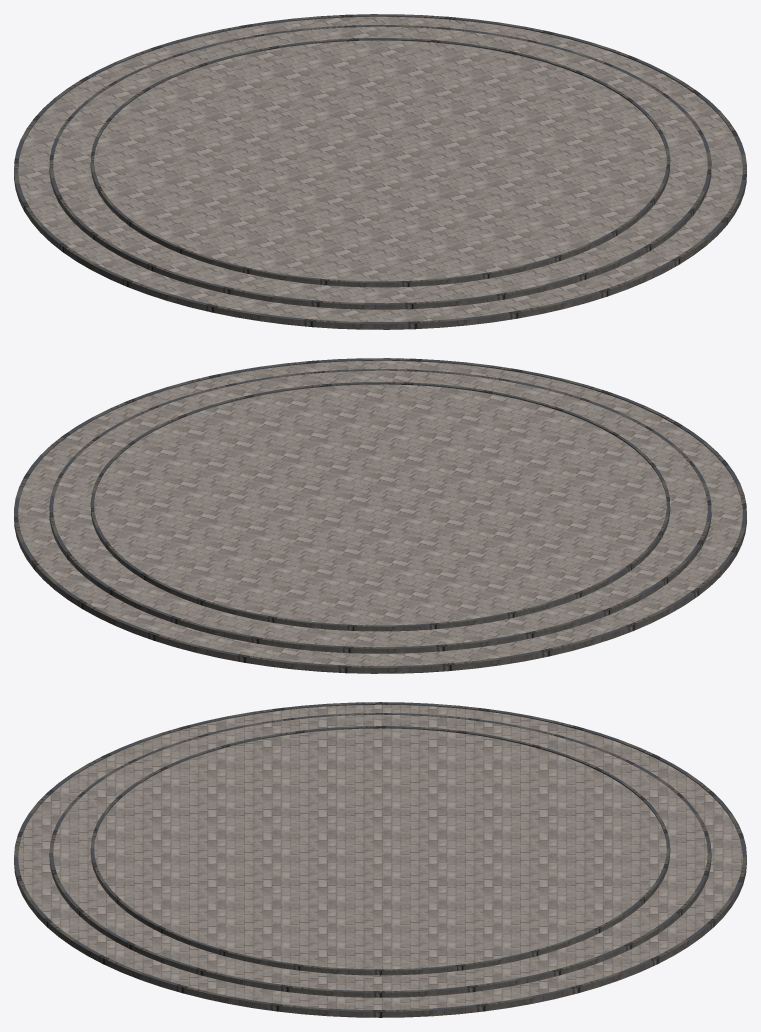
The model's file is CirculoCentro.fbx.
The picture shows the model from 3 angles, top to bottom: view 1: azimuth 30°, elevation 25°; view 2: azimuth 150°, elevation 25°; view 3: azimuth 270°, elevation 25°; orthographic projection.
Visible parts, largest first — view 1: polySurface16; view 2: polySurface16; view 3: polySurface16.
Boxes of the visible parts, x1,y1,x2,y2 form: polySurface16: (14, 14, 746, 329); polySurface16: (14, 358, 746, 673); polySurface16: (14, 702, 746, 1017).
Size of the model in its own units: 1327 by 29.17 by 1327.
